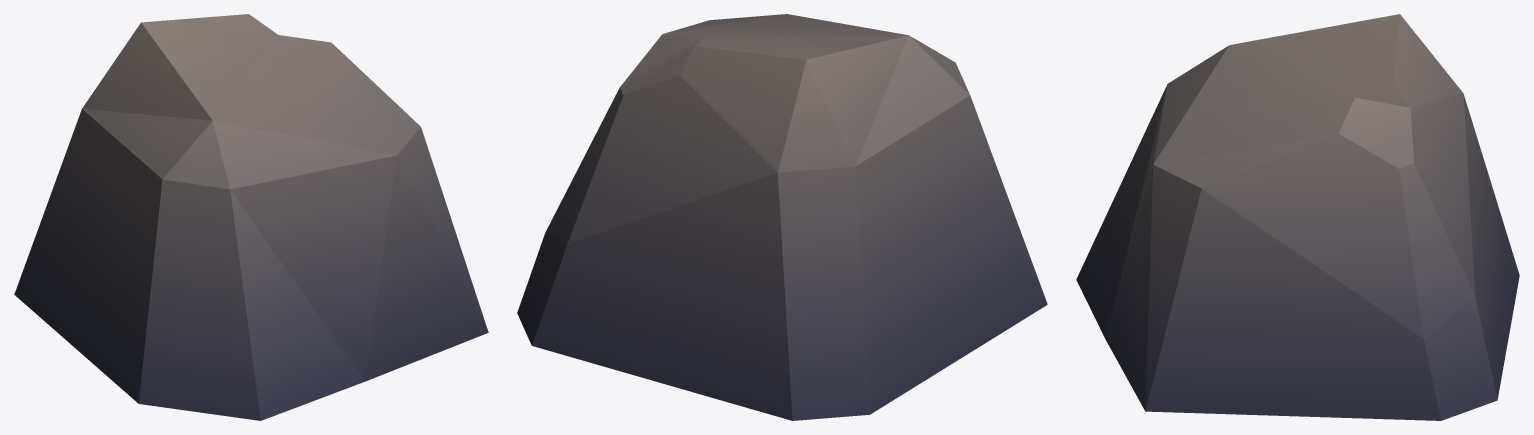
Rendered from Rock_02.fbx.
3 views of the same model, side by side, from view 1: azimuth 30°, elevation 25°; view 2: azimuth 150°, elevation 25°; view 3: azimuth 270°, elevation 25° (orthographic). The views are drawn at different scales.
Visible parts, largest first — view 1: Rock_02; view 2: Rock_02; view 3: Rock_02.
Part boxes in pixels (x1,y1,x2,y2): Rock_02: (14,14,488,420); Rock_02: (517,14,1047,420); Rock_02: (1076,14,1519,420).
Bounding box in the file's own units: 147 × 109 × 154.
